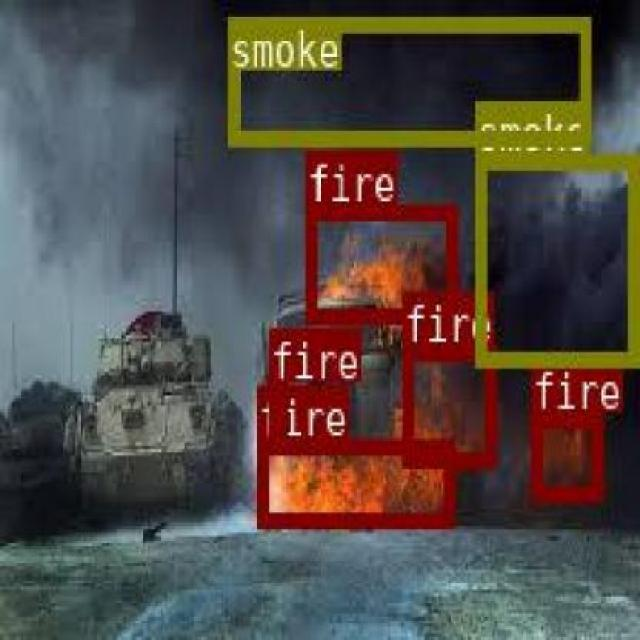Fire: (302, 202, 456, 320), (256, 437, 452, 525), (401, 343, 494, 463), (530, 411, 602, 498), (268, 382, 284, 431)
Smoke: (226, 16, 588, 142), (474, 153, 636, 362)
